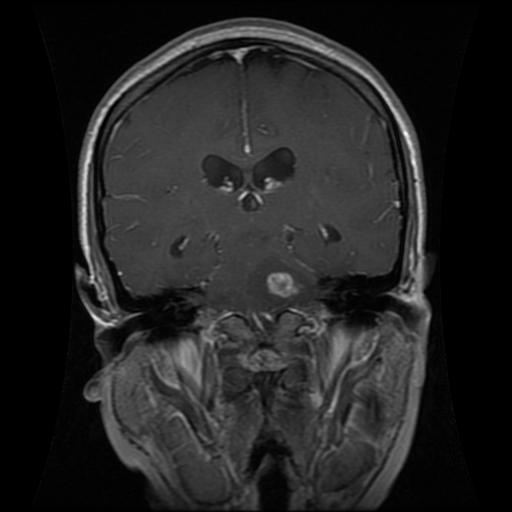Gliomia_tumour: (245, 253, 317, 310)
